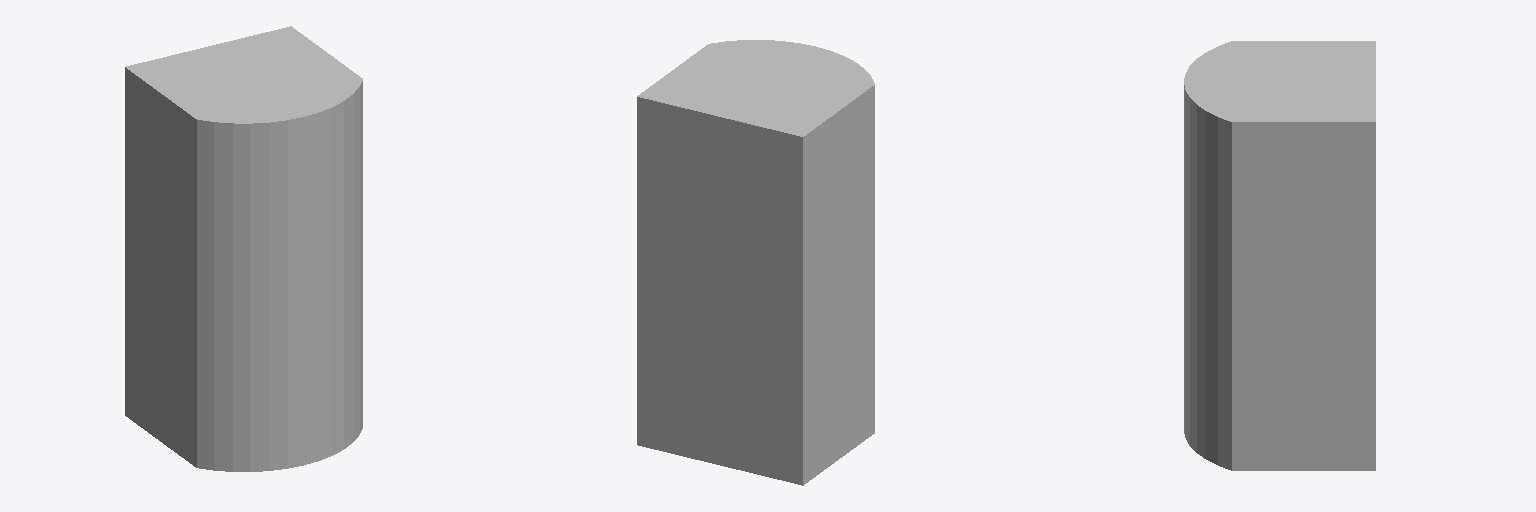
The model's file is highrise_5.obj.
3 views of the same model, side by side, from view 1: azimuth 30°, elevation 25°; view 2: azimuth 150°, elevation 25°; view 3: azimuth 270°, elevation 25° (orthographic).
Parts seen in each view (by area): view 1: Mesh1 Model; view 2: Mesh1 Model; view 3: Mesh1 Model.
Boxes of the visible parts, <box> form: Mesh1 Model: <box>125,26,362,471</box>; Mesh1 Model: <box>637,40,874,485</box>; Mesh1 Model: <box>1184,41,1375,470</box>.
Size of the model in its own units: 20 by 40 by 20.